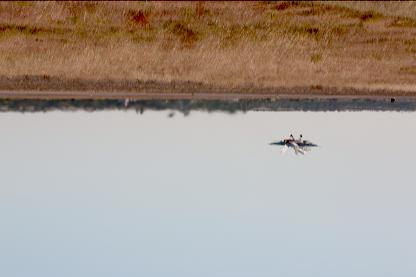F15: (267, 134, 321, 156)
